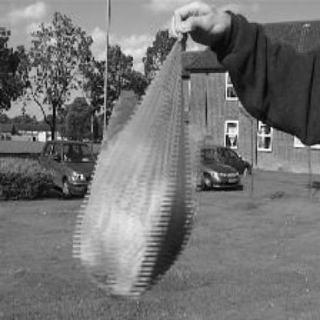other: (73, 28, 195, 304)
